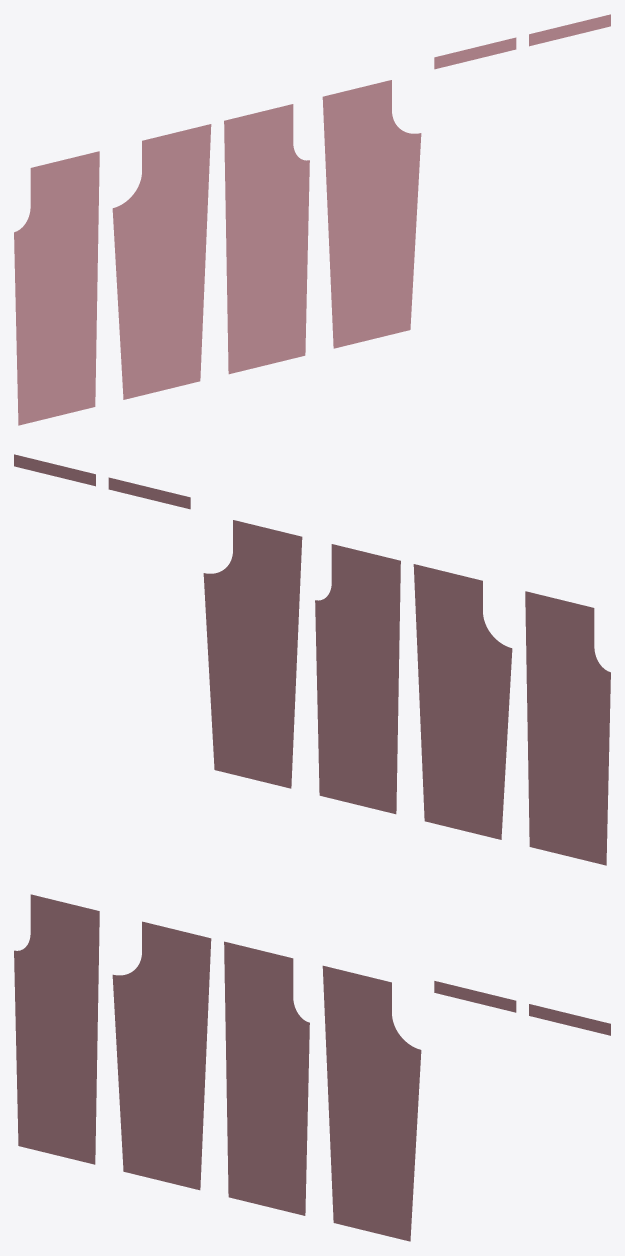
The model's file is pantalon-sudadera-pierna-ancha-talla-S.glb.
3 renders of one model, top to bottom at view 1: azimuth 30°, elevation 25°; view 2: azimuth 150°, elevation 25°; view 3: azimuth 330°, elevation 25°, orthographic.
Visible parts, largest first — view 1: patron-espalda-izq, patron-espalda-der, patron-delantero-der, patron-delantero-izq, patron-pretina-delantera, patron-pretina-trasera; view 2: patron-espalda-izq, patron-espalda-der, patron-delantero-der, patron-delantero-izq, patron-pretina-delantera, patron-pretina-trasera; view 3: patron-espalda-der, patron-espalda-izq, patron-delantero-der, patron-delantero-izq, patron-pretina-delantera, patron-pretina-trasera.
Boxes of the visible parts, x1,y1,x2,y2 form: patron-espalda-izq: (112,124,211,399); patron-espalda-der: (322,80,421,348); patron-delantero-der: (224,104,309,374); patron-delantero-izq: (14,151,99,425); patron-pretina-delantera: (434,37,516,69); patron-pretina-trasera: (529,14,610,46); patron-espalda-izq: (413,564,512,839); patron-espalda-der: (203,520,302,788); patron-delantero-der: (315,544,400,814); patron-delantero-izq: (525,591,610,865); patron-pretina-delantera: (108,477,190,509); patron-pretina-trasera: (14,454,95,486); patron-espalda-der: (322,965,421,1241); patron-espalda-izq: (112,921,211,1190); patron-delantero-der: (224,941,309,1215); patron-delantero-izq: (14,894,99,1164); patron-pretina-delantera: (434,981,516,1012); patron-pretina-trasera: (529,1004,610,1035).
Size of the model in its own units: 2.33 by 0.995 by 0.
